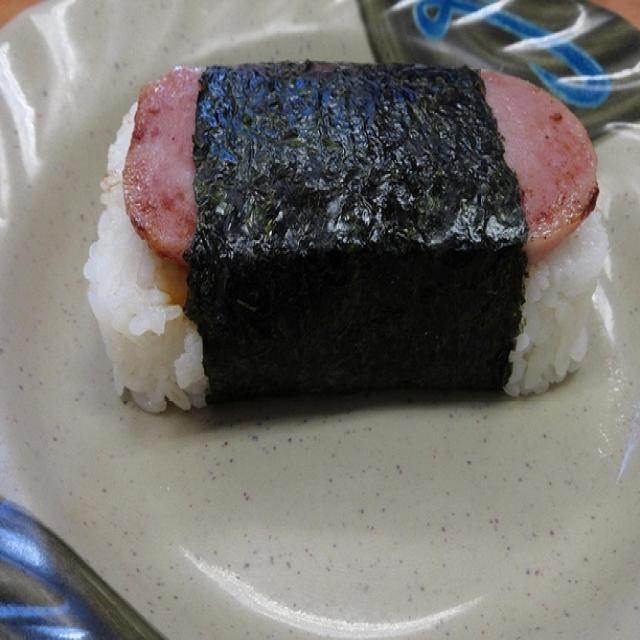寿司卷物: (73, 44, 617, 436)
